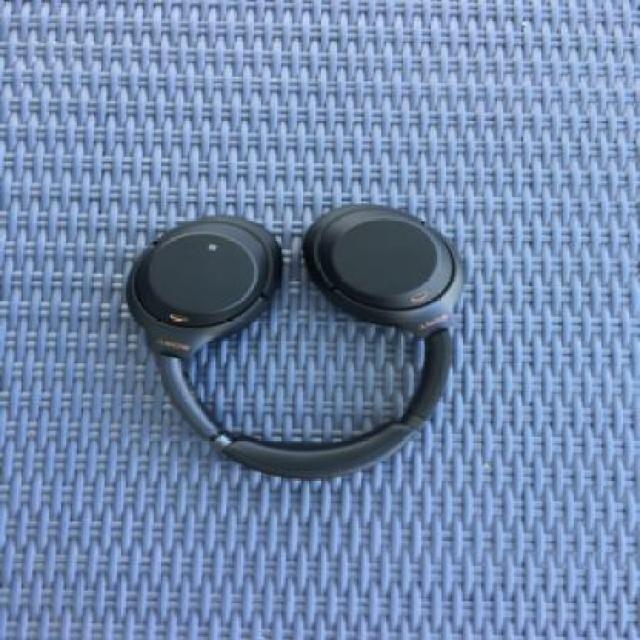earphone: (113, 100, 492, 490)
